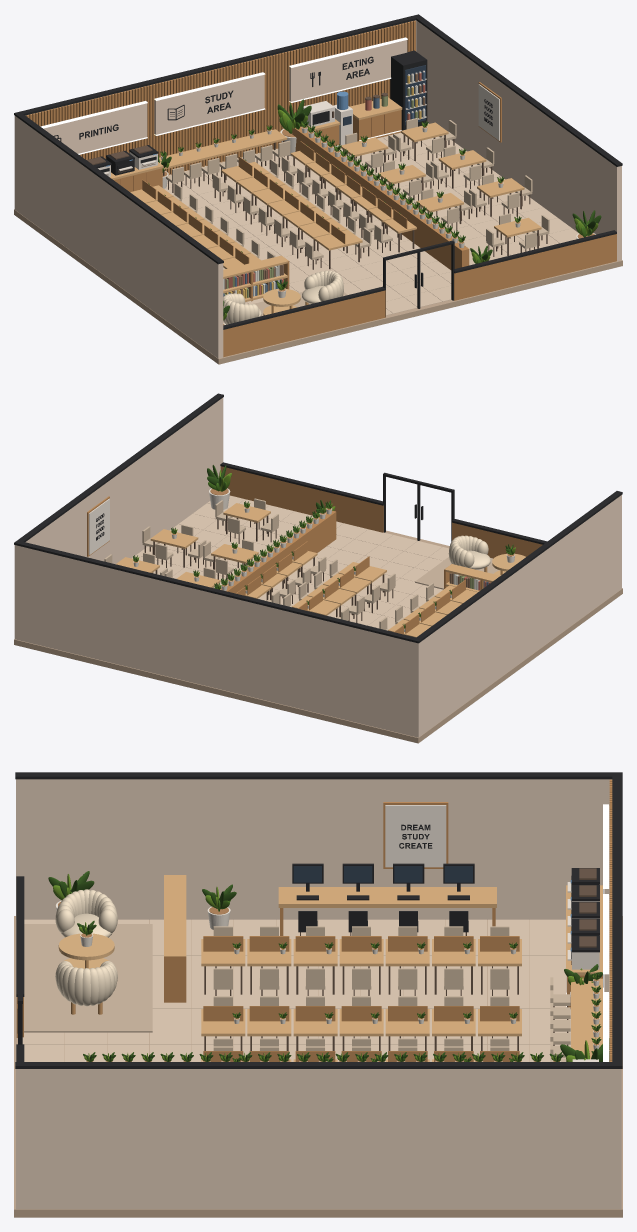
File: reference_second_floor.glb
3 views of the same model, one above another, from view 1: azimuth 30°, elevation 25°; view 2: azimuth 150°, elevation 25°; view 3: azimuth 270°, elevation 25° (orthographic). The views are drawn at different scales.
Parts seen in each view (by area): view 1: Second floor slab, walls and entry, Slatted wall and illuminated pictogram signs, Study carrels.001, Refreshment counter, microwave, water cooler and drinks refr, Study carrels.002, Study carrels, Window study bar and seven stools, Fluted planter partition, Lounge seating and coffee table, Cafe tables and chairs.002, Cafe tables and chairs, Cafe tables and chairs.001 (+6 smaller); view 2: Second floor slab, walls and entry, Study carrels.001, Cafe tables and chairs.002, Study carrels, Study carrels.002, Lounge seating and coffee table, Fluted planter partition, Cafe tables and chairs.003, Cafe tables and chairs.001, Framed wall typography, Double-tier library shelf, Potted foliage.063; view 3: Second floor slab, walls and entry, Lounge seating and coffee table, Study carrels, Study carrels.001, Computer workstations, Framed wall typography, Five multifunction printers and cabinetry, Window study bar and seven stools, Double-tier library shelf, Study carrels.002, Slatted wall and illuminated pictogram signs, Potted foliage.067 (+1 smaller).
Part boxes in pixels (x1=…): Second floor slab, walls and entry: x1=14, y1=14, x2=622, y2=364; Slatted wall and illuminated pictogram signs: x1=26, y1=20, x2=415, y2=175; Study carrels.001: x1=212, y1=156, x2=371, y2=269; Refreshment counter, microwave, water cooler and drinks refr: x1=303, y1=50, x2=427, y2=147; Study carrels.002: x1=281, y1=141, x2=416, y2=252; Study carrels: x1=130, y1=179, x2=275, y2=268; Window study bar and seven stools: x1=159, y1=129, x2=290, y2=192; Fluted planter partition: x1=292, y1=126, x2=469, y2=269; Lounge seating and coffee table: x1=223, y1=270, x2=347, y2=324; Cafe tables and chairs.002: x1=412, y1=173, x2=532, y2=230; Cafe tables and chairs: x1=333, y1=118, x2=456, y2=174; Cafe tables and chairs.001: x1=373, y1=145, x2=494, y2=201; Second floor slab, walls and entry: x1=14, y1=393, x2=622, y2=743; Study carrels.001: x1=283, y1=556, x2=395, y2=622; Cafe tables and chairs.002: x1=142, y1=524, x2=266, y2=580; Study carrels: x1=379, y1=580, x2=477, y2=637; Study carrels.002: x1=236, y1=541, x2=326, y2=604; Lounge seating and coffee table: x1=415, y1=535, x2=525, y2=589; Fluted planter partition: x1=220, y1=510, x2=336, y2=593; Cafe tables and chairs.003: x1=215, y1=498, x2=278, y2=543; Cafe tables and chairs.001: x1=104, y1=552, x2=227, y2=588; Framed wall typography: x1=87, y1=496, x2=109, y2=556; Double-tier library shelf: x1=444, y1=564, x2=500, y2=592; Potted foliage.063: x1=207, y1=465, x2=231, y2=509; Second floor slab, walls and entry: x1=14, y1=772, x2=622, y2=1217; Lounge seating and coffee table: x1=24, y1=889, x2=152, y2=1032; Study carrels: x1=201, y1=926, x2=521, y2=995; Study carrels.001: x1=201, y1=996, x2=521, y2=1050; Computer workstations: x1=278, y1=863, x2=496, y2=935; Framed wall typography: x1=383, y1=802, x2=448, y2=868; Five multifunction printers and cabinetry: x1=566, y1=868, x2=602, y2=1008; Window study bar and seven stools: x1=550, y1=977, x2=602, y2=1061; Double-tier library shelf: x1=164, y1=875, x2=186, y2=1002; Study carrels.002: x1=201, y1=1046, x2=521, y2=1061; Slatted wall and illuminated pictogram signs: x1=603, y1=779, x2=612, y2=1061; Potted foliage.067: x1=202, y1=884, x2=236, y2=929.
Size of the model in its own units: 16.44 by 3.96 by 14.4.
